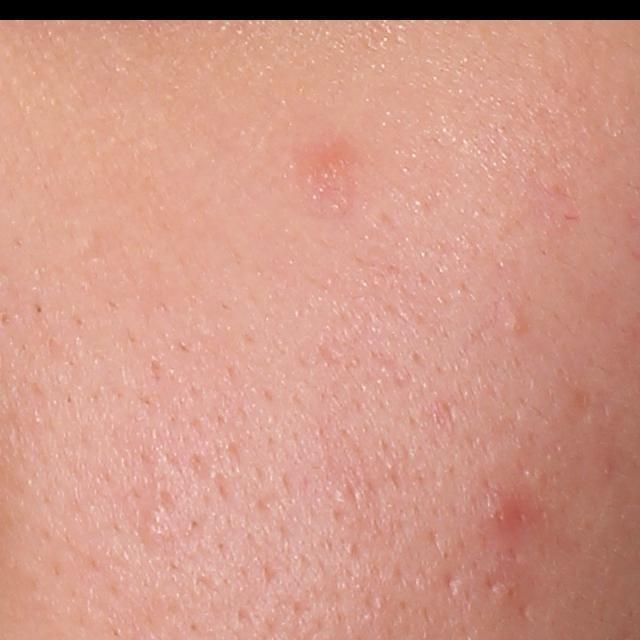atrophic_scar: (127, 478, 177, 559), (439, 571, 461, 601), (516, 595, 533, 625)
papule: (480, 490, 531, 536)
